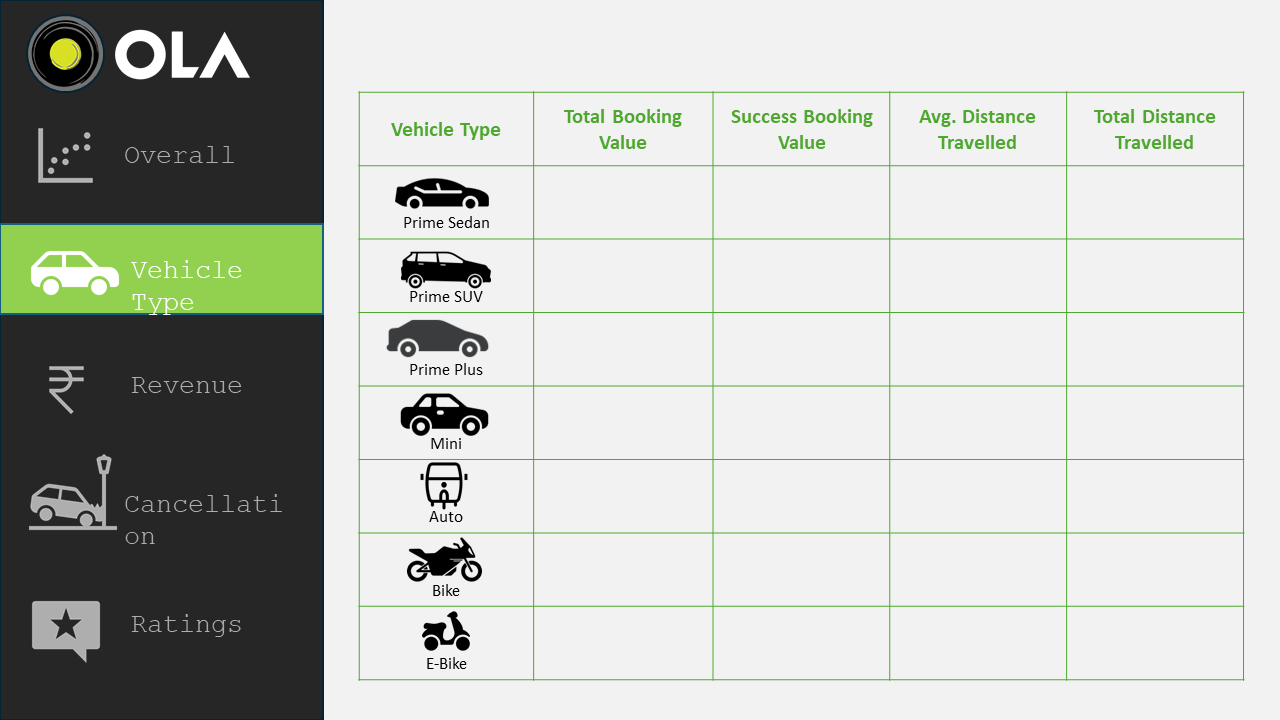

The page's visual inventory and layout, read from the dashboard file:
{"tool":"powerbi","page":{"name":"Vehicle Type","canvas":[1280,720],"ordinal":1},"visuals":[{"type":"actionButton","box":[0,112.2,324.5,89.3],"z":0},{"type":"actionButton","box":[0,340.2,324.5,89.3],"z":1000},{"type":"actionButton","box":[0,451.2,324.5,89.3],"z":2000},{"type":"actionButton","box":[0,581.5,324.5,89.3],"z":3000},{"type":"card","fields":{"Values":["Sum(ola1.Booking_Value)"]},"box":[539.3,167.4,164.7,64.5],"z":4000},{"type":"card","fields":{"Values":["Sum(ola1.Booking_Value)"]},"box":[539.3,241.5,164.7,64.5],"z":5000},{"type":"card","fields":{"Values":["Sum(ola1.Booking_Value)"]},"box":[539.3,462.4,164.7,64.5],"z":6000},{"type":"card","fields":{"Values":["Sum(ola1.Booking_Value)"]},"box":[539.3,319.7,164.7,64.5],"z":7000},{"type":"card","fields":{"Values":["Sum(ola1.Booking_Value)"]},"box":[539.3,387,164.7,64.5],"z":8000},{"type":"card","fields":{"Values":["Sum(ola1.Booking_Value)"]},"box":[539.3,540.7,164.7,64.5],"z":9000},{"type":"card","fields":{"Values":["Sum(ola1.Booking_Value)"]},"box":[539.3,605.1,164.7,64.5],"z":10000},{"type":"card","fields":{"Values":["Sum(ola1.Booking_Value)"]},"box":[721.8,167.4,164.7,64.5],"z":11000},{"type":"card","fields":{"Values":["Sum(ola1.Booking_Value)"]},"box":[721.8,241.5,164.7,64.5],"z":12000},{"type":"card","fields":{"Values":["Sum(ola1.Booking_Value)"]},"box":[721.8,319.7,164.7,64.5],"z":13000},{"type":"card","fields":{"Values":["Sum(ola1.Booking_Value)"]},"box":[721.8,387,164.7,64.5],"z":14000},{"type":"card","fields":{"Values":["Sum(ola1.Booking_Value)"]},"box":[721.8,462.4,164.7,64.5],"z":15000},{"type":"card","fields":{"Values":["Sum(ola1.Booking_Value)"]},"box":[721.8,540.7,164.7,64.5],"z":16000},{"type":"card","fields":{"Values":["Sum(ola1.Booking_Value)"]},"box":[721.8,606.5,164.7,64.5],"z":17000},{"type":"card","fields":{"Values":["Avg(ola1.Ride_Distance)"]},"box":[898.8,168.8,164.7,64.5],"z":18000},{"type":"card","fields":{"Values":["Avg(ola1.Booking_Value)"]},"box":[898.8,241.5,164.7,64.5],"z":19000},{"type":"card","fields":{"Values":["Avg(ola1.Ride_Distance)"]},"box":[898.8,319.7,164.7,64.5],"z":20000},{"type":"card","fields":{"Values":["Avg(ola1.Ride_Distance)"]},"box":[898.8,388.3,164.7,64.5],"z":21000},{"type":"card","fields":{"Values":["Avg(ola1.Ride_Distance)"]},"box":[898.8,462.4,164.7,64.5],"z":22000},{"type":"card","fields":{"Values":["Avg(ola1.Ride_Distance)"]},"box":[898.8,540.7,164.7,64.5],"z":23000},{"type":"card","fields":{"Values":["Avg(ola1.Ride_Distance)"]},"box":[898.8,607.9,164.7,64.5],"z":24000},{"type":"card","fields":{"Values":["Sum(ola1.Ride_Distance)"]},"box":[1073.1,168.8,164.7,64.5],"z":25000},{"type":"card","fields":{"Values":["Sum(ola1.Booking_Value)"]},"box":[1073.1,242.9,164.7,64.5],"z":26000},{"type":"card","fields":{"Values":["Sum(ola1.Ride_Distance)"]},"box":[1073.1,319.7,164.7,64.5],"z":27000},{"type":"card","fields":{"Values":["Sum(ola1.Ride_Distance)"]},"box":[1073.1,388.3,164.7,64.5],"z":28000},{"type":"card","fields":{"Values":["Sum(ola1.Ride_Distance)"]},"box":[1073.1,462.4,164.7,64.5],"z":29000},{"type":"card","fields":{"Values":["Sum(ola1.Ride_Distance)"]},"box":[1073.1,540.7,164.7,64.5],"z":30000},{"type":"card","fields":{"Values":["Sum(ola1.Ride_Distance)"]},"box":[1073.1,607.9,164.7,64.5],"z":31000},{"type":"slicer","title":"Date","fields":{"Values":["ola1.Date"]},"box":[850.8,0,396.6,83.7],"z":32000}]}

Visuals, with their boxes in screenshot pixels (x1, y1, x2, y2), scaled from the page's 1280x720 canvas onto the 1280x720 screenshot:
actionButton: {"left": 0, "top": 112, "right": 324, "bottom": 202}
actionButton: {"left": 0, "top": 340, "right": 324, "bottom": 430}
actionButton: {"left": 0, "top": 451, "right": 324, "bottom": 540}
actionButton: {"left": 0, "top": 582, "right": 324, "bottom": 671}
card - Sum(ola1.Booking_Value): {"left": 539, "top": 167, "right": 704, "bottom": 232}
card - Sum(ola1.Booking_Value): {"left": 539, "top": 242, "right": 704, "bottom": 306}
card - Sum(ola1.Booking_Value): {"left": 539, "top": 462, "right": 704, "bottom": 527}
card - Sum(ola1.Booking_Value): {"left": 539, "top": 320, "right": 704, "bottom": 384}
card - Sum(ola1.Booking_Value): {"left": 539, "top": 387, "right": 704, "bottom": 452}
card - Sum(ola1.Booking_Value): {"left": 539, "top": 541, "right": 704, "bottom": 605}
card - Sum(ola1.Booking_Value): {"left": 539, "top": 605, "right": 704, "bottom": 670}
card - Sum(ola1.Booking_Value): {"left": 722, "top": 167, "right": 886, "bottom": 232}
card - Sum(ola1.Booking_Value): {"left": 722, "top": 242, "right": 886, "bottom": 306}
card - Sum(ola1.Booking_Value): {"left": 722, "top": 320, "right": 886, "bottom": 384}
card - Sum(ola1.Booking_Value): {"left": 722, "top": 387, "right": 886, "bottom": 452}
card - Sum(ola1.Booking_Value): {"left": 722, "top": 462, "right": 886, "bottom": 527}
card - Sum(ola1.Booking_Value): {"left": 722, "top": 541, "right": 886, "bottom": 605}
card - Sum(ola1.Booking_Value): {"left": 722, "top": 606, "right": 886, "bottom": 671}
card - Avg(ola1.Ride_Distance): {"left": 899, "top": 169, "right": 1064, "bottom": 233}
card - Avg(ola1.Booking_Value): {"left": 899, "top": 242, "right": 1064, "bottom": 306}
card - Avg(ola1.Ride_Distance): {"left": 899, "top": 320, "right": 1064, "bottom": 384}
card - Avg(ola1.Ride_Distance): {"left": 899, "top": 388, "right": 1064, "bottom": 453}
card - Avg(ola1.Ride_Distance): {"left": 899, "top": 462, "right": 1064, "bottom": 527}
card - Avg(ola1.Ride_Distance): {"left": 899, "top": 541, "right": 1064, "bottom": 605}
card - Avg(ola1.Ride_Distance): {"left": 899, "top": 608, "right": 1064, "bottom": 672}
card - Sum(ola1.Ride_Distance): {"left": 1073, "top": 169, "right": 1238, "bottom": 233}
card - Sum(ola1.Booking_Value): {"left": 1073, "top": 243, "right": 1238, "bottom": 307}
card - Sum(ola1.Ride_Distance): {"left": 1073, "top": 320, "right": 1238, "bottom": 384}
card - Sum(ola1.Ride_Distance): {"left": 1073, "top": 388, "right": 1238, "bottom": 453}
card - Sum(ola1.Ride_Distance): {"left": 1073, "top": 462, "right": 1238, "bottom": 527}
card - Sum(ola1.Ride_Distance): {"left": 1073, "top": 541, "right": 1238, "bottom": 605}
card - Sum(ola1.Ride_Distance): {"left": 1073, "top": 608, "right": 1238, "bottom": 672}
"Date" slicer: {"left": 851, "top": 0, "right": 1247, "bottom": 84}
